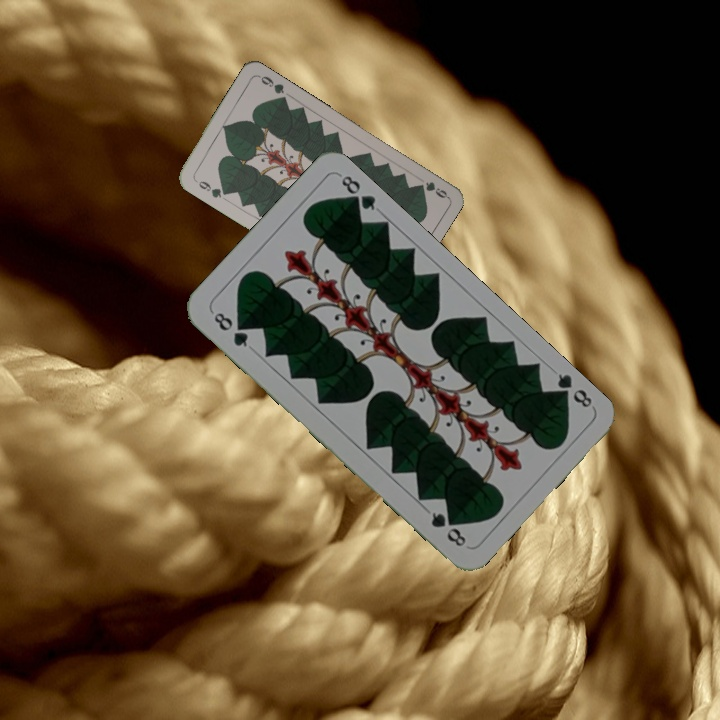G8: (550, 369, 595, 411), (209, 308, 251, 350)
G9: (190, 175, 228, 200), (414, 178, 450, 201)
